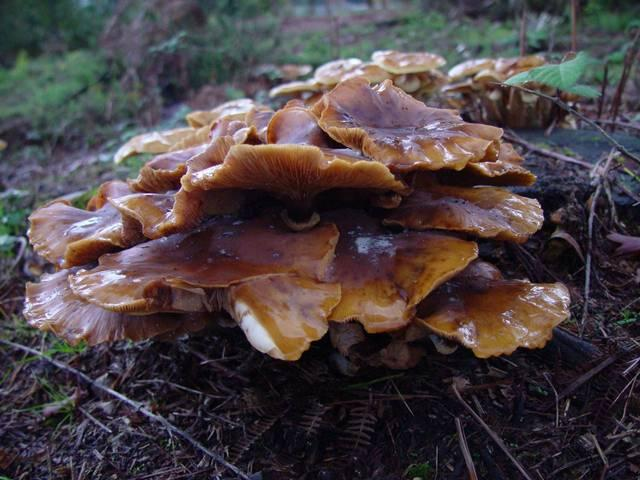Edible Mushroom: (22, 73, 571, 366)
